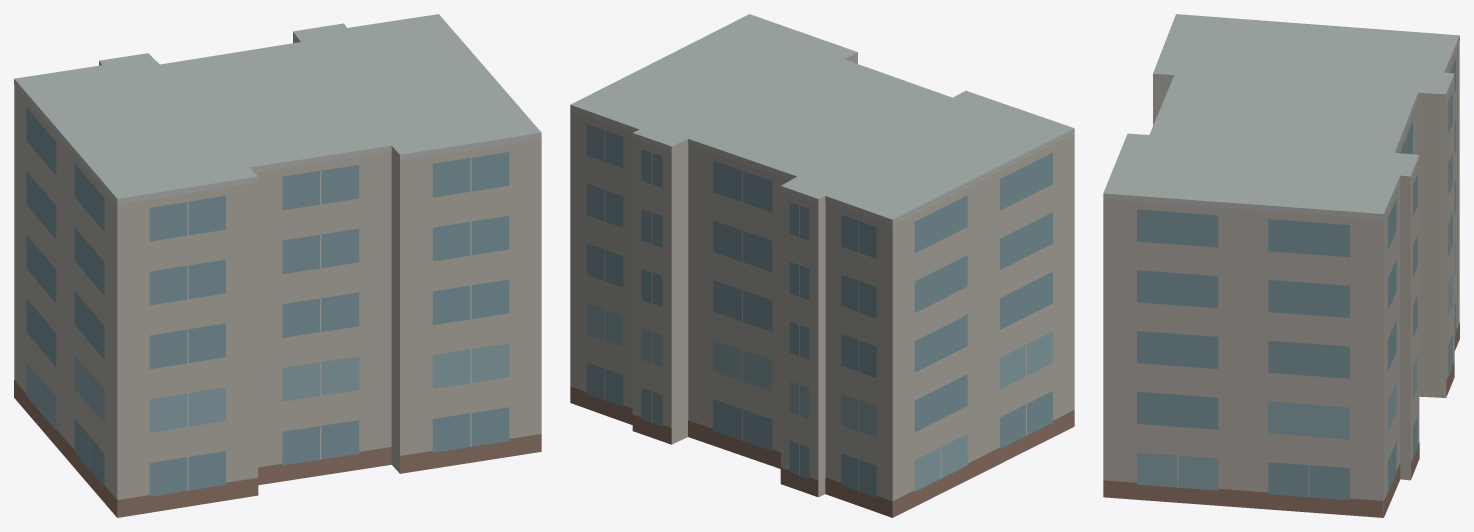
File: survey-upis-32894238.glb
The picture shows the model from 3 angles, left to right: view 1: azimuth 30°, elevation 25°; view 2: azimuth 150°, elevation 25°; view 3: azimuth 270°, elevation 25°; orthographic projection. The views are drawn at different scales.
Visible parts, largest first — view 1: survey-upis-32894238.tmp; view 2: survey-upis-32894238.tmp; view 3: survey-upis-32894238.tmp.
Boxes of the visible parts, x1=… form: survey-upis-32894238.tmp: x1=14, y1=14, x2=541, y2=517; survey-upis-32894238.tmp: x1=570, y1=14, x2=1074, y2=517; survey-upis-32894238.tmp: x1=1103, y1=14, x2=1459, y2=517.
Size of the model in its own units: 18.37 by 13 by 13.84.
